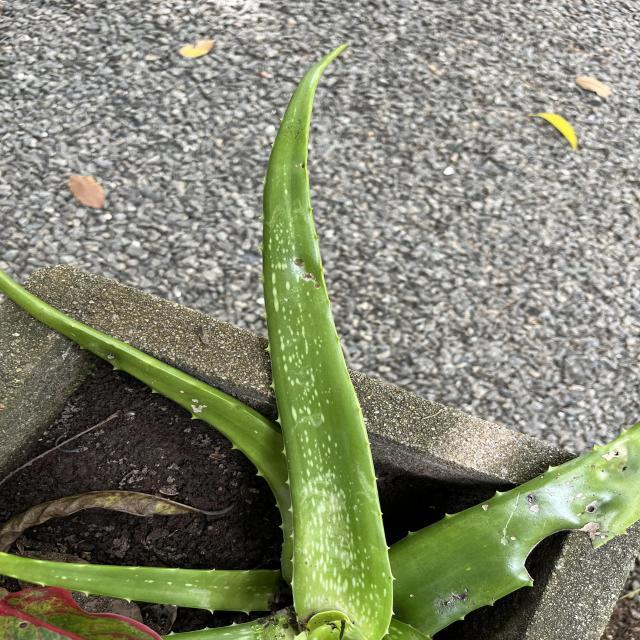Aloe vera: (256, 41, 399, 640)
